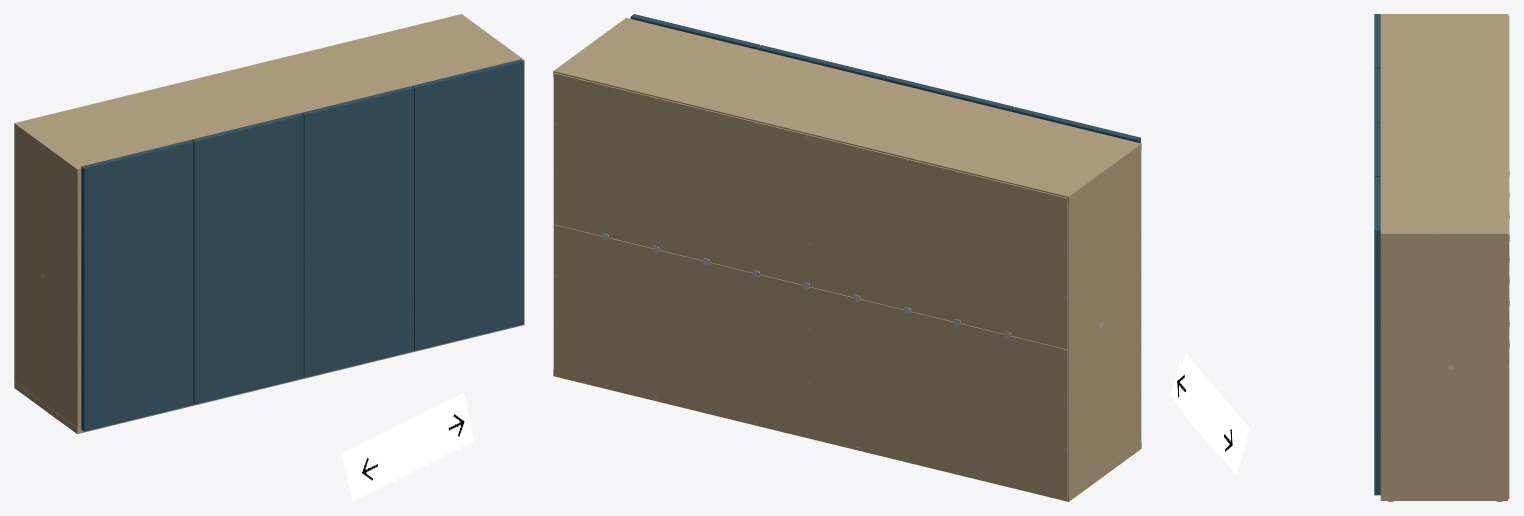
The model's file is myScene.glb.
3 views of the same model, side by side, from view 1: azimuth 30°, elevation 25°; view 2: azimuth 150°, elevation 25°; view 3: azimuth 270°, elevation 25° (orthographic). The views are drawn at different scales.
Visible parts, largest first — view 1: 4BD8C79042AB1988526219AF8FB9AAF1180021DF|:|B8A4396250C5687B1 (×4), 1EBAB5F8357DD4D5789C480883E8BDC5C3738D01|:|B8A4396250C5687B1, 0BE40C6EC123495BF0967C19817661325FA1D97A|:|B8A4396250C5687B1, State, Quad, 00AD9D317D7E73947006177440048B3262FEBE3E|:|B8A4396250C5687B1, LeftBrn, RightBtn; view 2: 24C0FF39FE30A3A8D45C6E20F8DDB940B9237DAB|:|B8A4396250C5687B1 (×2), 1EBAB5F8357DD4D5789C480883E8BDC5C3738D01|:|B8A4396250C5687B1, 0BE40C6EC123495BF0967C19817661325FA1D97A|:|B8A4396250C5687B1, 4BD8C79042AB1988526219AF8FB9AAF1180021DF|:|B8A4396250C5687B1 (×4), 00AD9D317D7E73947006177440048B3262FEBE3E|:|B8A4396250C5687B1; view 3: 10CA8B711246AD96CB04ABFE623ED4D813691982|:|B8A4396250C5687B1, 1EBAB5F8357DD4D5789C480883E8BDC5C3738D01|:|B8A4396250C5687B1, 4BD8C79042AB1988526219AF8FB9AAF1180021DF|:|B8A4396250C5687B1 (×4), State, Quad, 00AD9D317D7E73947006177440048B3262FEBE3E|:|B8A4396250C5687B1, 24C0FF39FE30A3A8D45C6E20F8DDB940B9237DAB|:|B8A4396250C5687B1, LeftBrn, RightBtn.
Part boxes in pixels (x1=…): 4BD8C79042AB1988526219AF8FB9AAF1180021DF|:|B8A4396250C5687B1 (×4): x1=81, y1=59, x2=523, y2=431; 1EBAB5F8357DD4D5789C480883E8BDC5C3738D01|:|B8A4396250C5687B1: x1=14, y1=14, x2=524, y2=174; 0BE40C6EC123495BF0967C19817661325FA1D97A|:|B8A4396250C5687B1: x1=14, y1=129, x2=81, y2=428; State: x1=373, y1=407, x2=451, y2=485; Quad: x1=341, y1=393, x2=474, y2=501; 00AD9D317D7E73947006177440048B3262FEBE3E|:|B8A4396250C5687B1: x1=14, y1=319, x2=524, y2=433; LeftBrn: x1=353, y1=445, x2=385, y2=492; RightBtn: x1=440, y1=401, x2=472, y2=449; 24C0FF39FE30A3A8D45C6E20F8DDB940B9237DAB|:|B8A4396250C5687B1 (×2): x1=554, y1=72, x2=1067, y2=500; 1EBAB5F8357DD4D5789C480883E8BDC5C3738D01|:|B8A4396250C5687B1: x1=553, y1=18, x2=1141, y2=203; 0BE40C6EC123495BF0967C19817661325FA1D97A|:|B8A4396250C5687B1: x1=1067, y1=151, x2=1141, y2=494; 4BD8C79042AB1988526219AF8FB9AAF1180021DF|:|B8A4396250C5687B1 (×4): x1=630, y1=14, x2=1140, y2=143; 00AD9D317D7E73947006177440048B3262FEBE3E|:|B8A4396250C5687B1: x1=553, y1=369, x2=1141, y2=501; 10CA8B711246AD96CB04ABFE623ED4D813691982|:|B8A4396250C5687B1: x1=1380, y1=240, x2=1507, y2=494; 1EBAB5F8357DD4D5789C480883E8BDC5C3738D01|:|B8A4396250C5687B1: x1=1380, y1=14, x2=1507, y2=239; 4BD8C79042AB1988526219AF8FB9AAF1180021DF|:|B8A4396250C5687B1 (×4): x1=1374, y1=14, x2=1380, y2=495; State: x1=1183, y1=371, x2=1230, y2=455; Quad: x1=1172, y1=353, x2=1249, y2=474; 00AD9D317D7E73947006177440048B3262FEBE3E|:|B8A4396250C5687B1: x1=1380, y1=495, x2=1507, y2=500; 24C0FF39FE30A3A8D45C6E20F8DDB940B9237DAB|:|B8A4396250C5687B1: x1=1508, y1=15, x2=1509, y2=366; LeftBrn: x1=1170, y1=361, x2=1192, y2=410; RightBtn: x1=1217, y1=416, x2=1239, y2=464.
Size of the model in its own units: 1.23 by 0.7903 by 0.8026.
6 materials, 3 textured.
